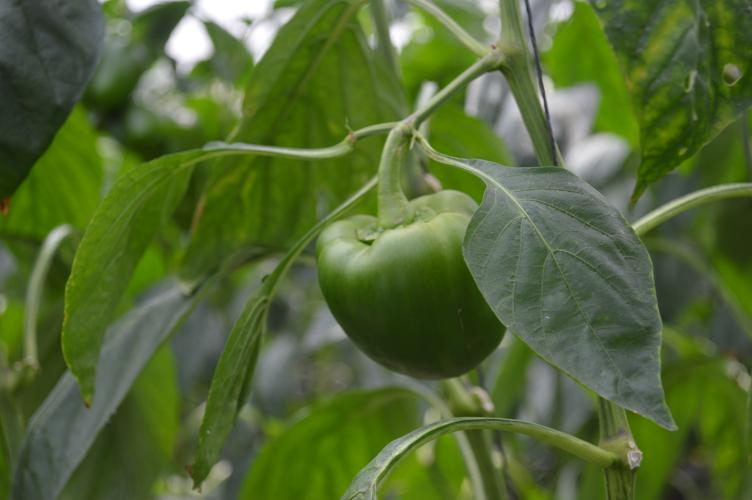BellPepper: (318, 191, 510, 379)
